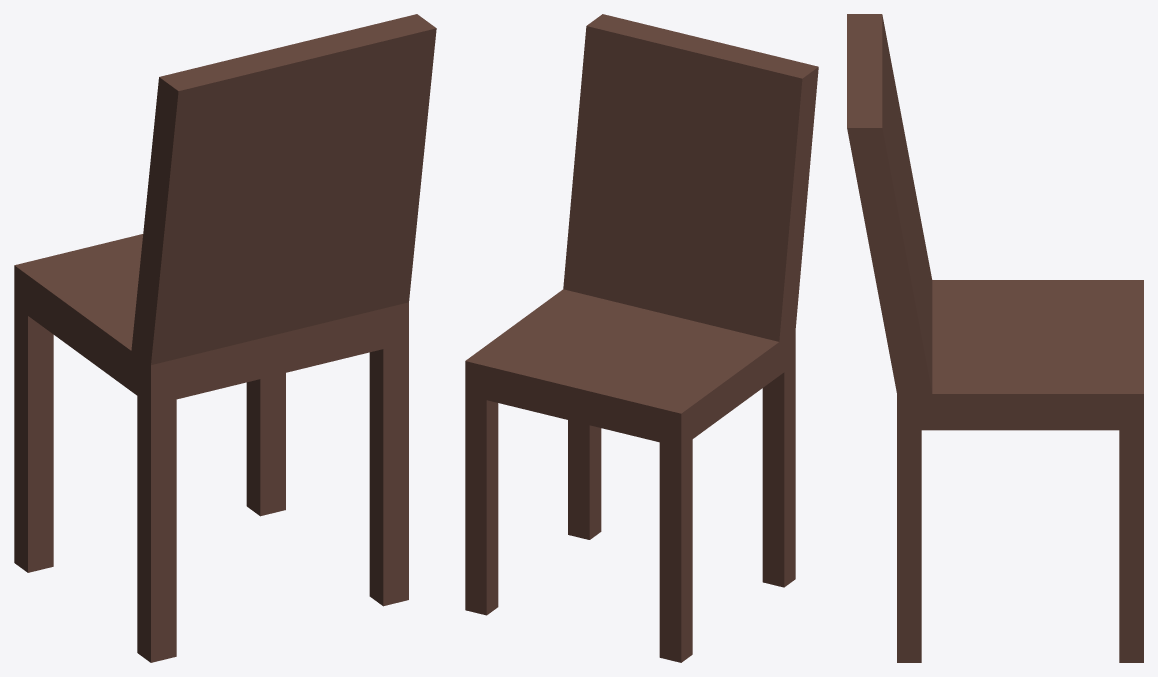
File: chair.gltf
3 renders of one model, left to right at view 1: azimuth 30°, elevation 25°; view 2: azimuth 150°, elevation 25°; view 3: azimuth 270°, elevation 25°, orthographic. The views are drawn at different scales.
Parts seen in each view (by area): view 1: chair; view 2: chair; view 3: chair.
Boxes of the visible parts, x1,y1,x2,y2 form: chair: [14, 14, 436, 662]; chair: [465, 14, 818, 662]; chair: [847, 14, 1143, 662].
Size of the model in its own units: 0.3407 by 0.7467 by 0.3756.
Materials: 1 (1 with a texture image).
